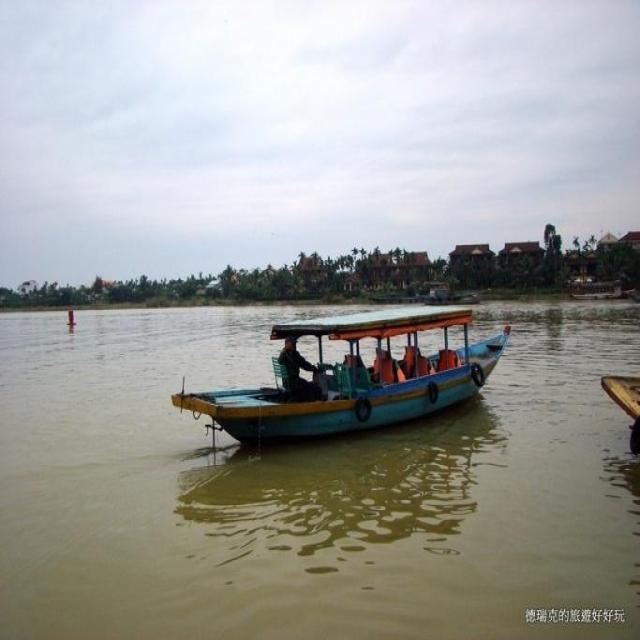boat: (167, 322, 518, 456)
